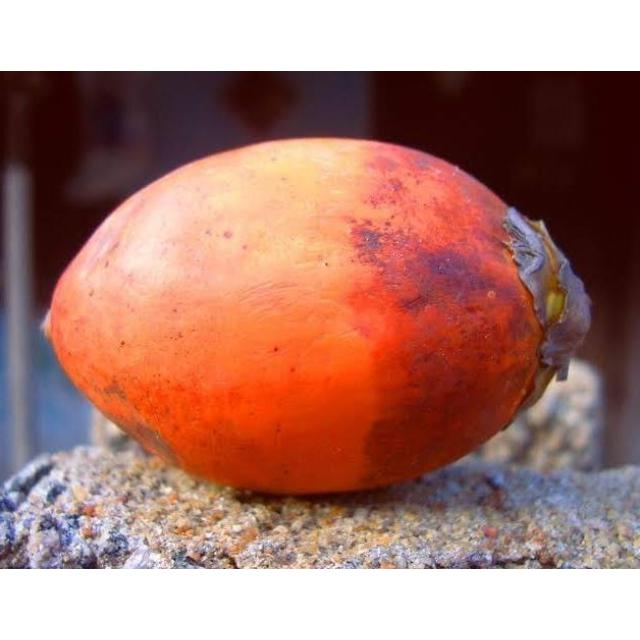good: (43, 137, 589, 499)
